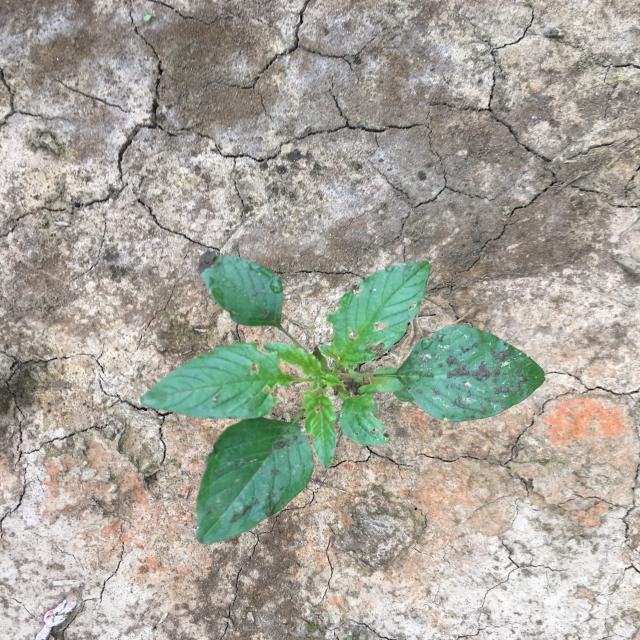PalmerAmaranth: (138, 255, 546, 546)
